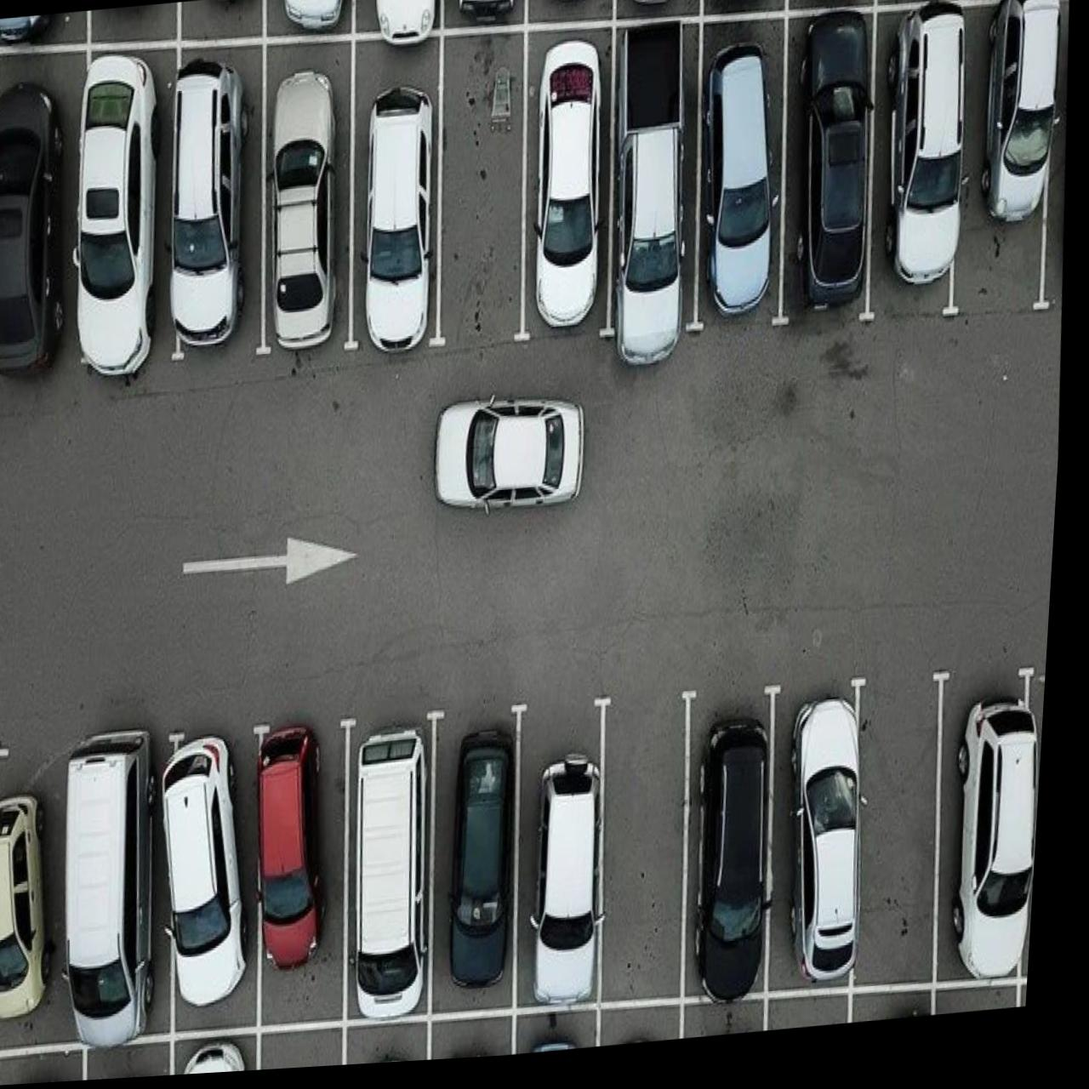cars: (765, 11, 893, 328), (245, 39, 372, 356), (70, 47, 194, 364), (926, 664, 1045, 993), (332, 35, 454, 353), (596, 7, 715, 333), (681, 6, 800, 332), (857, 9, 971, 333), (155, 716, 271, 1032), (749, 677, 870, 978), (161, 48, 277, 358), (670, 680, 783, 998), (504, 690, 617, 1008), (242, 715, 356, 1026), (329, 714, 443, 1021), (414, 696, 522, 1015), (67, 739, 181, 1037), (953, 6, 1063, 312), (515, 25, 623, 336), (0, 42, 95, 367), (0, 745, 92, 1052)
empty: (424, 30, 542, 350), (587, 679, 694, 1005), (843, 678, 947, 995)
